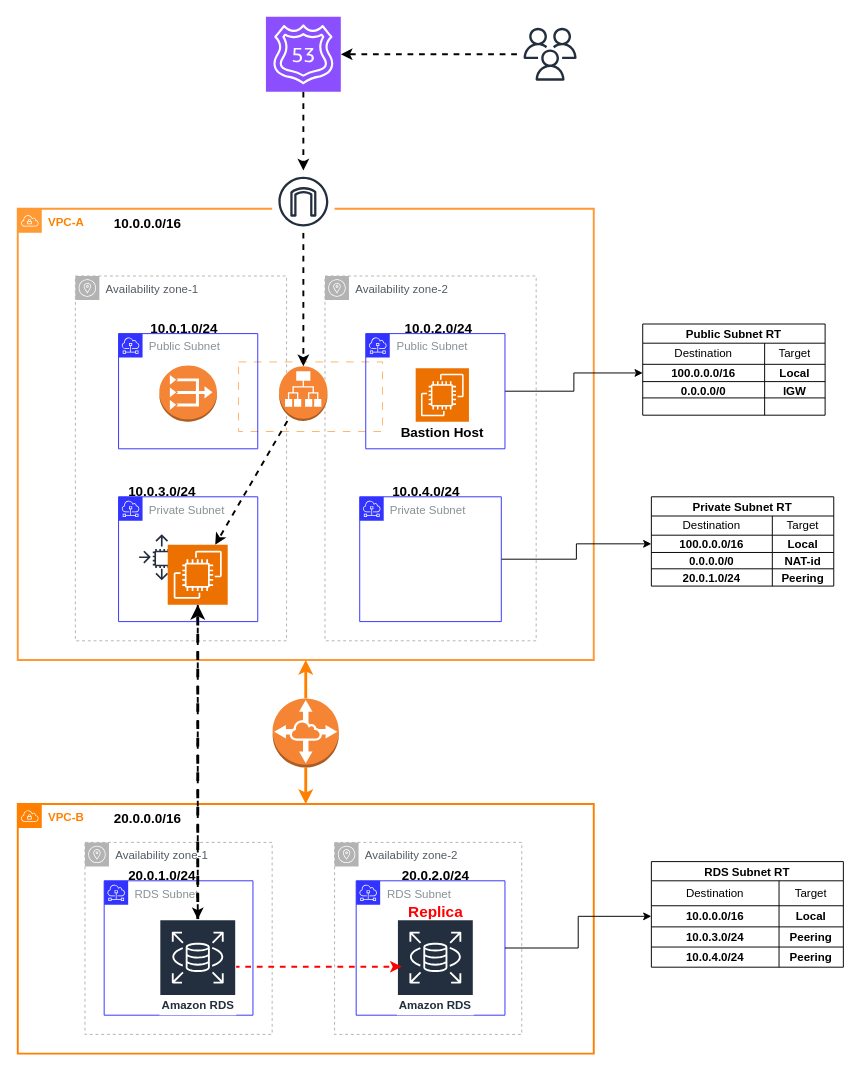
This 860x1071 diagram has some shape labels left out. Each missing label, with the centre of its shape:
"Auto Scaling" belongs at [161,557].
"Internet gateway" belongs at [303,201].
"Users" belongs at [549,53].
